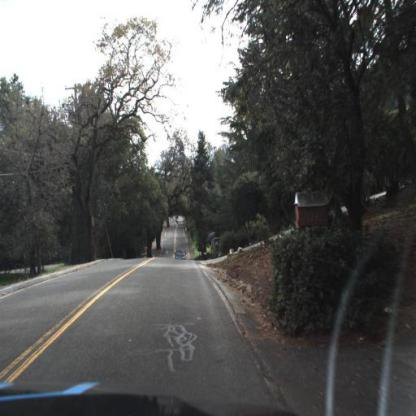car: (174, 248, 188, 263)
